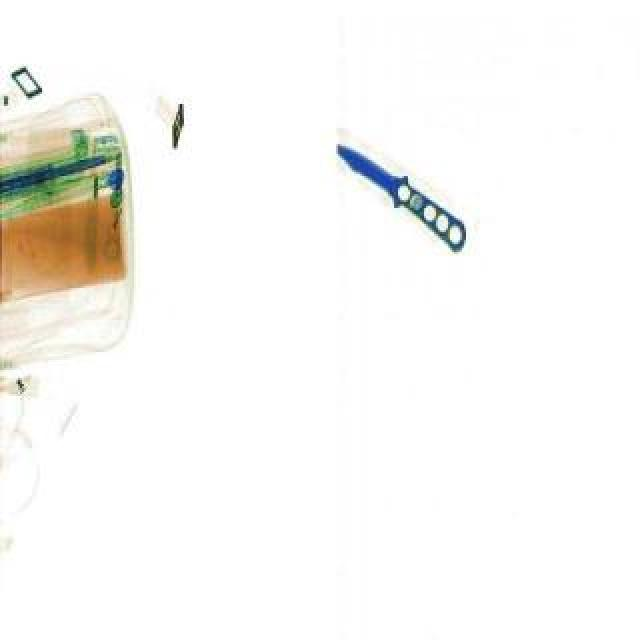knife: (326, 134, 474, 250)
